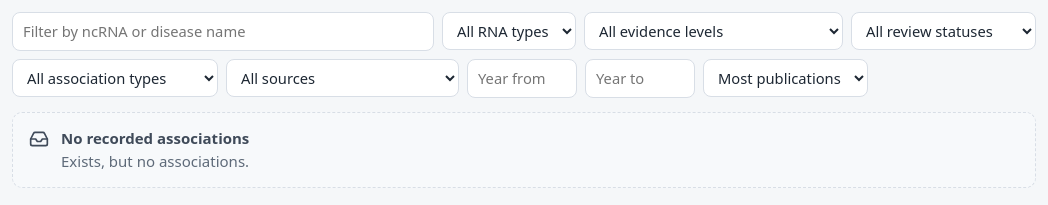
Test: AssociationTable › distinguishes "no matches for filters" from "no associations"
Expected: the text "No recorded associations" is shown, [61,128,249,148]
Expected: the text "Exists, but no associations." is shown, [61,150,249,173]
Step 1. Select "HMDD" in the dropdown named "Source database" → (342, 78), box [226,59,459,97]
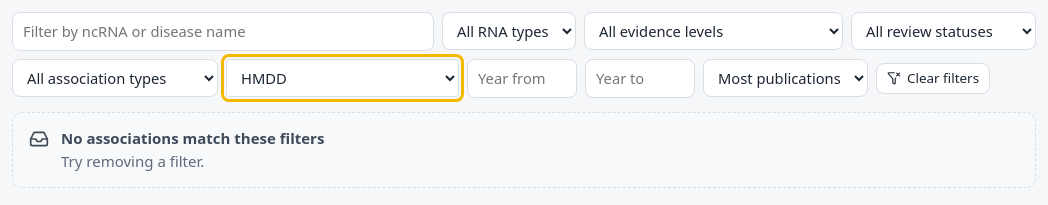
Now the text "No associations match these filters" is shown, box [61,128,324,148]
